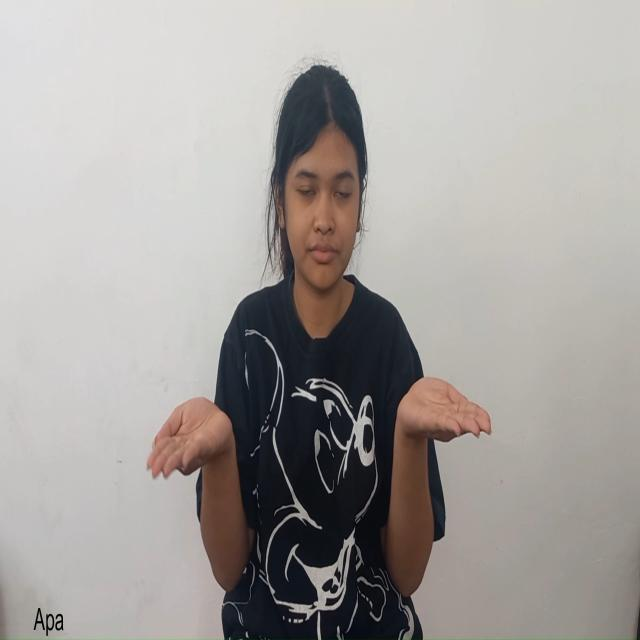Apa -BISINDO-: (142, 372, 498, 601)
